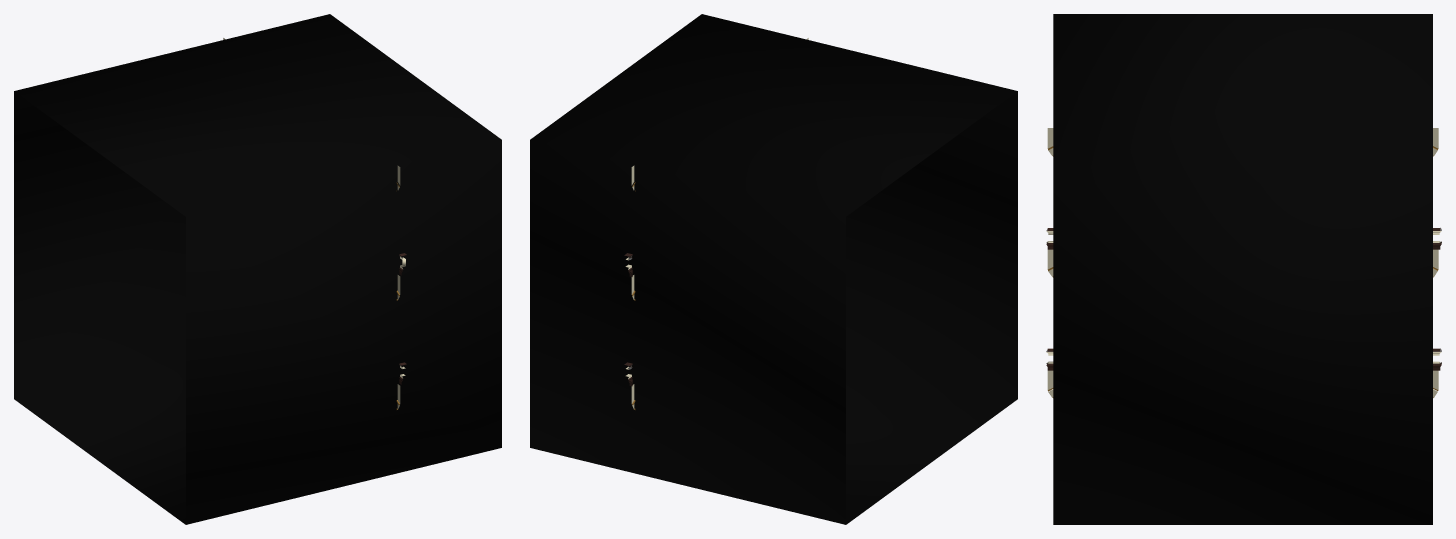
The model's file is PalacioNacionalHueco.fbx.
3 renders of one model, left to right at view 1: azimuth 30°, elevation 25°; view 2: azimuth 150°, elevation 25°; view 3: azimuth 270°, elevation 25°, orthographic. The views are drawn at different scales.
Parts seen in each view (by area): view 1: PalacioNacionalHueco; view 2: PalacioNacionalHueco; view 3: PalacioNacionalHueco.
Part boxes in pixels (x1,y1,x2,y2): PalacioNacionalHueco: (14, 14, 501, 524); PalacioNacionalHueco: (530, 14, 1017, 524); PalacioNacionalHueco: (1046, 14, 1441, 524).
Size of the model in its own units: 1728 by 1611 by 1696.
5 materials, 4 textured.
